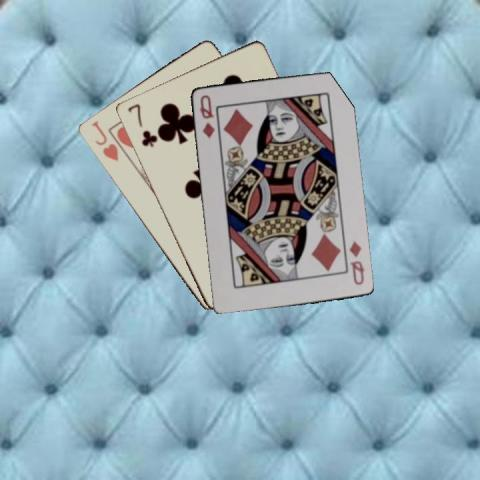7c: (124, 101, 157, 148)
Jh: (89, 117, 119, 163)
Qd: (197, 92, 216, 140), (346, 238, 365, 286)
